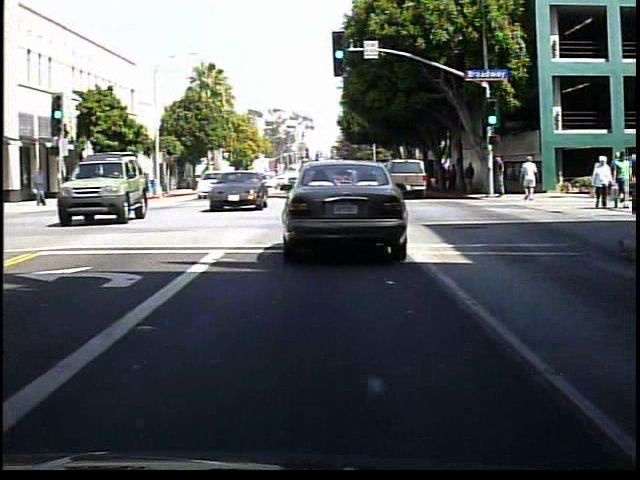person: (586, 157, 614, 211), (611, 146, 629, 211), (519, 155, 541, 204), (492, 152, 512, 204), (35, 164, 55, 208), (467, 160, 481, 193), (451, 163, 464, 195)
